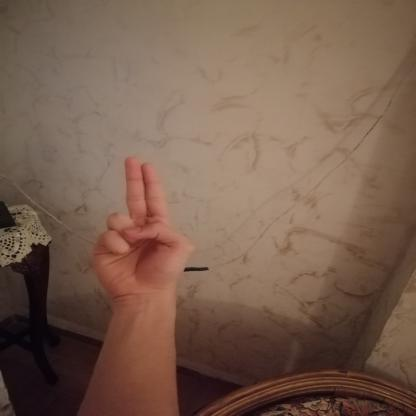TA: (75, 146, 199, 310)
